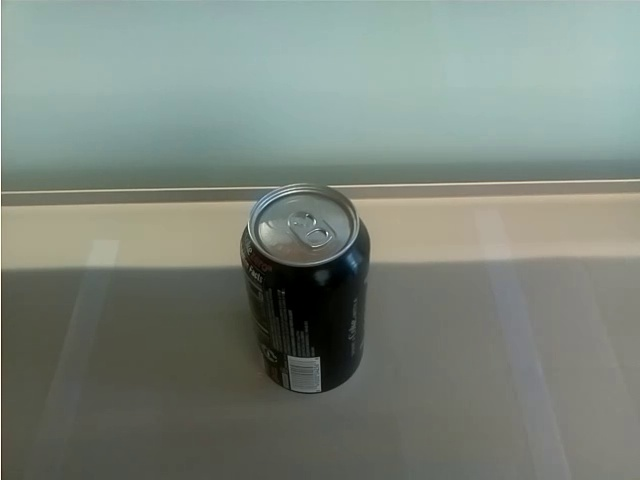cocacola: (238, 177, 374, 395)
